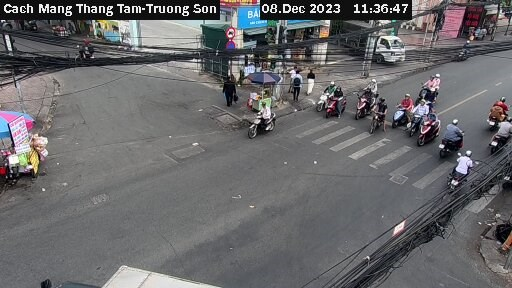motorbike: (246, 105, 286, 149), (416, 69, 448, 111), (445, 149, 476, 185), (412, 108, 438, 149), (437, 119, 463, 160), (485, 114, 511, 147), (478, 99, 510, 124), (323, 87, 347, 120), (366, 97, 388, 133), (351, 86, 373, 118), (392, 93, 411, 128), (315, 84, 331, 112), (406, 100, 419, 133)
truck: (34, 256, 228, 288), (342, 17, 409, 69)
